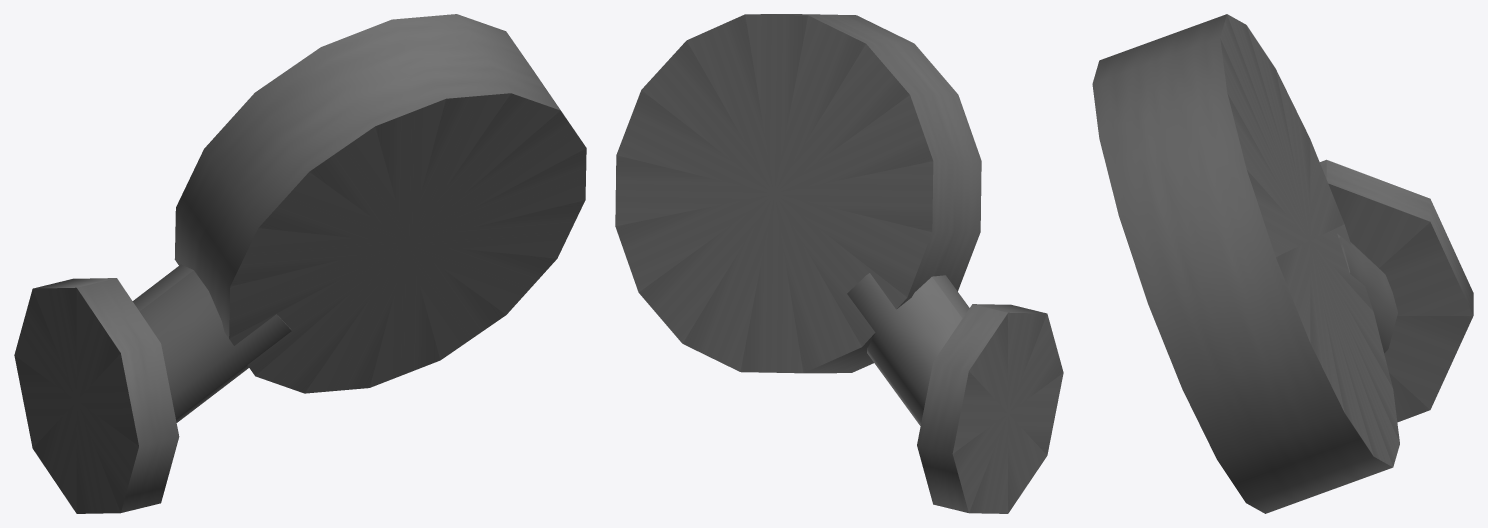
File: mastarmcurve_6x2_c3_west.obj
3 renders of one model, left to right at view 1: azimuth 30°, elevation 25°; view 2: azimuth 150°, elevation 25°; view 3: azimuth 270°, elevation 25°, orthographic. The views are drawn at different scales.
Visible parts, largest first — view 1: mastarm_6x2_c3_west; view 2: mastarm_6x2_c3_west; view 3: mastarm_6x2_c3_west.
Part boxes in pixels (left/top/right/bottom): mastarm_6x2_c3_west: left=14, top=14, right=586, bottom=513; mastarm_6x2_c3_west: left=615, top=14, right=1063, bottom=513; mastarm_6x2_c3_west: left=1092, top=14, right=1473, bottom=513.
Size of the model in its own units: 0.8282 by 0.8163 by 0.5188.
